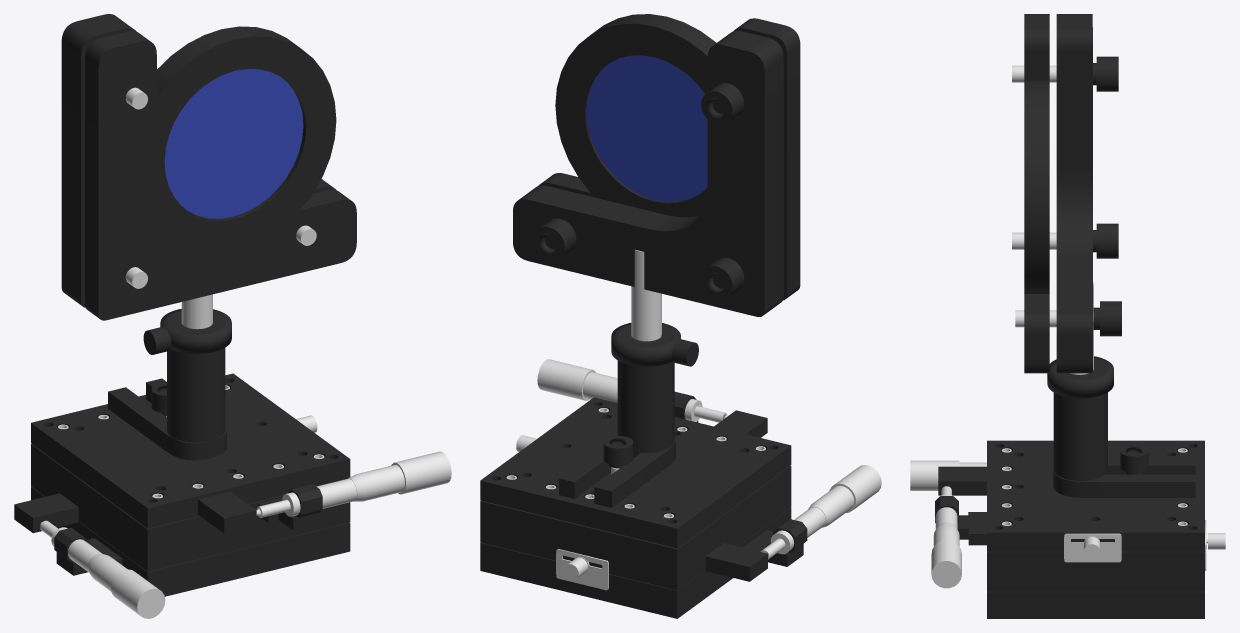
File: 大透镜.fbx
3 renders of one model, left to right at view 1: azimuth 30°, elevation 25°; view 2: azimuth 150°, elevation 25°; view 3: azimuth 270°, elevation 25°, orthographic. The views are drawn at different scales.
Visible parts, largest first — view 1: Cylinder3247, 二维位移平台006, Cylinder3257, Box865, Box852, Cylinder3244, 二维位移平台005, Box853, Box855, Box861, Cylinder3278, Cylinder3266 (+7 smaller); view 2: Box852, 二维位移平台006, Cylinder3247, Cylinder3257, Box865, Cylinder3244, 二维位移平台005, Box853, Cylinder3246, Box861, Cylinder3266, Cylinder3249 (+9 smaller); view 3: 二维位移平台006, Box852, Cylinder3247, Box865, Cylinder3244, 二维位移平台005, Box853, Box855, Box859, Cylinder3266, Cylinder3278, Cylinder3249 (+5 smaller).
Part boxes in pixels (left/top/right/bottom): Cylinder3247: left=85, top=26, right=356, bottom=320; 二维位移平台006: left=31, top=373, right=350, bottom=528; Cylinder3257: left=164, top=69, right=303, bottom=218; Box865: left=31, top=444, right=350, bottom=571; Box852: left=61, top=14, right=335, bottom=307; Cylinder3244: left=160, top=309, right=231, bottom=442; 二维位移平台005: left=31, top=486, right=350, bottom=596; Box853: left=108, top=378, right=226, bottom=460; Box855: left=198, top=491, right=256, bottom=533; Box861: left=14, top=493, right=78, bottom=533; Cylinder3278: left=111, top=569, right=165, bottom=618; Cylinder3266: left=391, top=451, right=451, bottom=494; Box852: left=513, top=30, right=783, bottom=316; 二维位移平台006: left=480, top=397, right=791, bottom=548; Cylinder3247: left=538, top=14, right=800, bottom=300; Cylinder3257: left=586, top=55, right=707, bottom=202; Box865: left=480, top=466, right=791, bottom=590; Cylinder3244: left=611, top=323, right=680, bottom=458; 二维位移平台005: left=480, top=507, right=791, bottom=618; Box853: left=559, top=437, right=675, bottom=507; Cylinder3246: left=631, top=249, right=661, bottom=341; Box861: left=705, top=543, right=767, bottom=581; Cylinder3266: left=537, top=359, right=595, bottom=400; Cylinder3249: left=533, top=218, right=576, bottom=260; 二维位移平台006: left=987, top=440, right=1204, bottom=551; Box852: left=1056, top=14, right=1092, bottom=373; Cylinder3247: left=1024, top=14, right=1049, bottom=373; Box865: left=987, top=551, right=1204, bottom=591; Cylinder3244: left=1047, top=356, right=1113, bottom=480; 二维位移平台005: left=987, top=591, right=1204, bottom=618; Box853: left=1053, top=457, right=1195, bottom=497; Box855: left=938, top=466, right=986, bottom=495; Box859: left=1064, top=533, right=1121, bottom=562; Cylinder3266: left=931, top=540, right=961, bottom=588; Cylinder3278: left=910, top=460, right=959, bottom=490; Cylinder3249: left=1093, top=301, right=1121, bottom=336.
Size of the model in its own units: 27.34 by 43.43 by 24.58.
